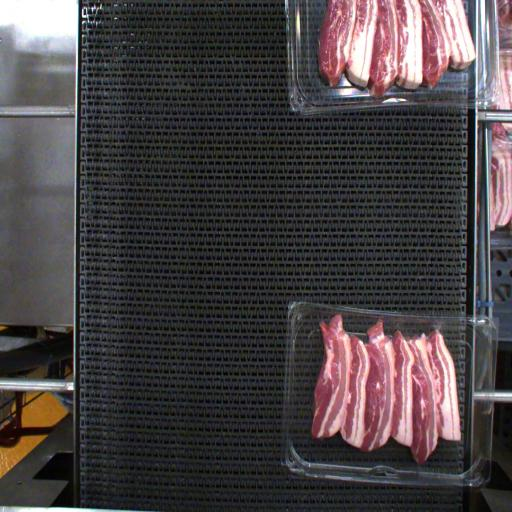packaging-error: (408, 310, 454, 344)
